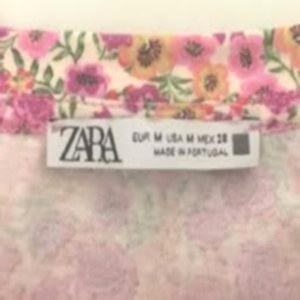zara: (102, 63, 160, 189)
